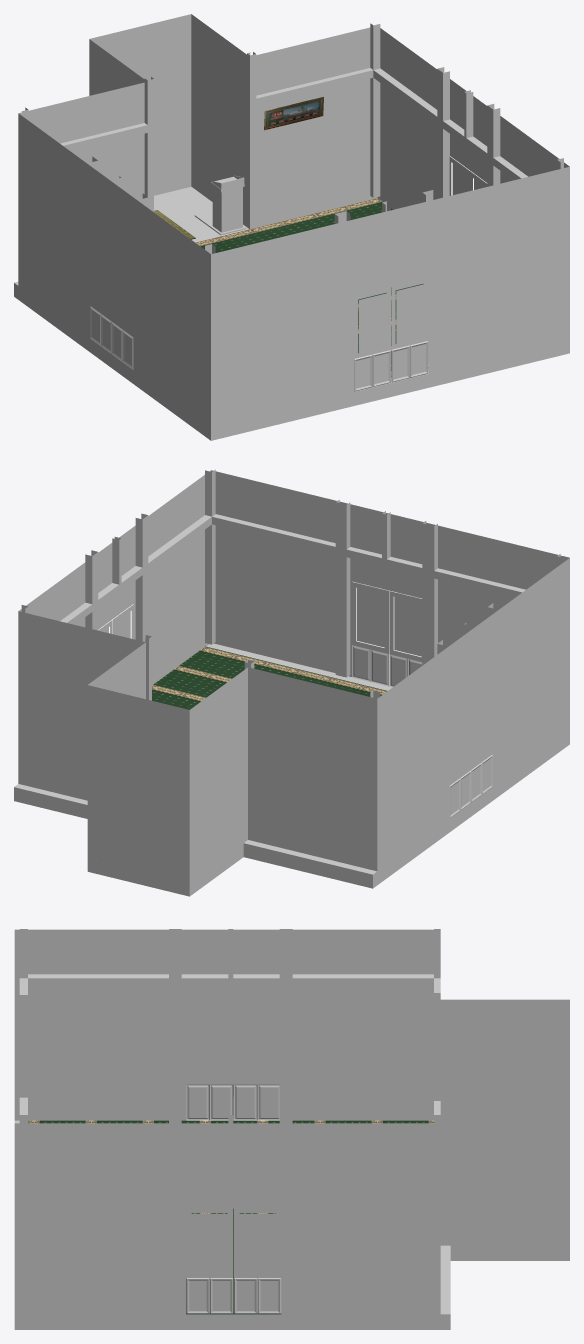
The model's file is Mesjid AR.fbx.
The picture shows the model from 3 angles, top to bottom: view 1: azimuth 30°, elevation 25°; view 2: azimuth 150°, elevation 25°; view 3: azimuth 270°, elevation 25°; orthographic projection. The views are drawn at different scales.
Parts seen in each view (by area): view 1: Plane.023, Plane.024, Cube.014, Cube.012, Plane.032, Plane.035, Plane.036, Plane.039, Plane.038, Cube.013, Plane.034, Plane.041; view 2: Plane.023, Plane.024, Cube.014, Cube.012, Plane.032, Plane.039, Plane.035, Plane.036, Plane.038, Plane.034; view 3: Plane.023, Plane.024, Cube.014, Plane.032, Plane.037, Plane.038, Plane.033, Cube.012, Plane.034, Plane.039.
Boxes of the visible parts, x1,y1,x2,y2 form: Plane.023: (18,14,569,440); Plane.024: (25,95,544,403); Cube.014: (21,23,563,366); Cube.012: (14,186,569,440); Plane.032: (23,92,545,406); Plane.035: (354,278,428,391); Plane.036: (359,284,424,353); Plane.039: (195,198,428,376); Plane.038: (90,243,133,369); Cube.013: (194,175,246,235); Plane.034: (93,249,130,330); Plane.041: (264,96,323,130); Plane.023: (18,470,569,882); Plane.024: (148,541,557,850); Cube.014: (21,469,563,700); Cube.012: (14,643,569,896); Plane.032: (148,539,559,852); Plane.039: (152,646,387,709); Plane.035: (352,582,422,687); Plane.036: (357,588,421,656); Plane.038: (449,692,492,818); Plane.034: (452,698,489,778); Plane.023: (14,929,569,1329); Plane.024: (41,1001,427,1296); Cube.014: (19,929,440,1123); Plane.032: (38,999,430,1298); Plane.037: (186,1208,281,1313); Plane.038: (186,1015,279,1120); Plane.033: (191,1214,275,1273); Cube.012: (14,1120,569,1329); Plane.034: (192,1020,275,1079); Plane.039: (28,1120,433,1314).
Size of the model in its own units: 60.83 by 31.38 by 73.55.
